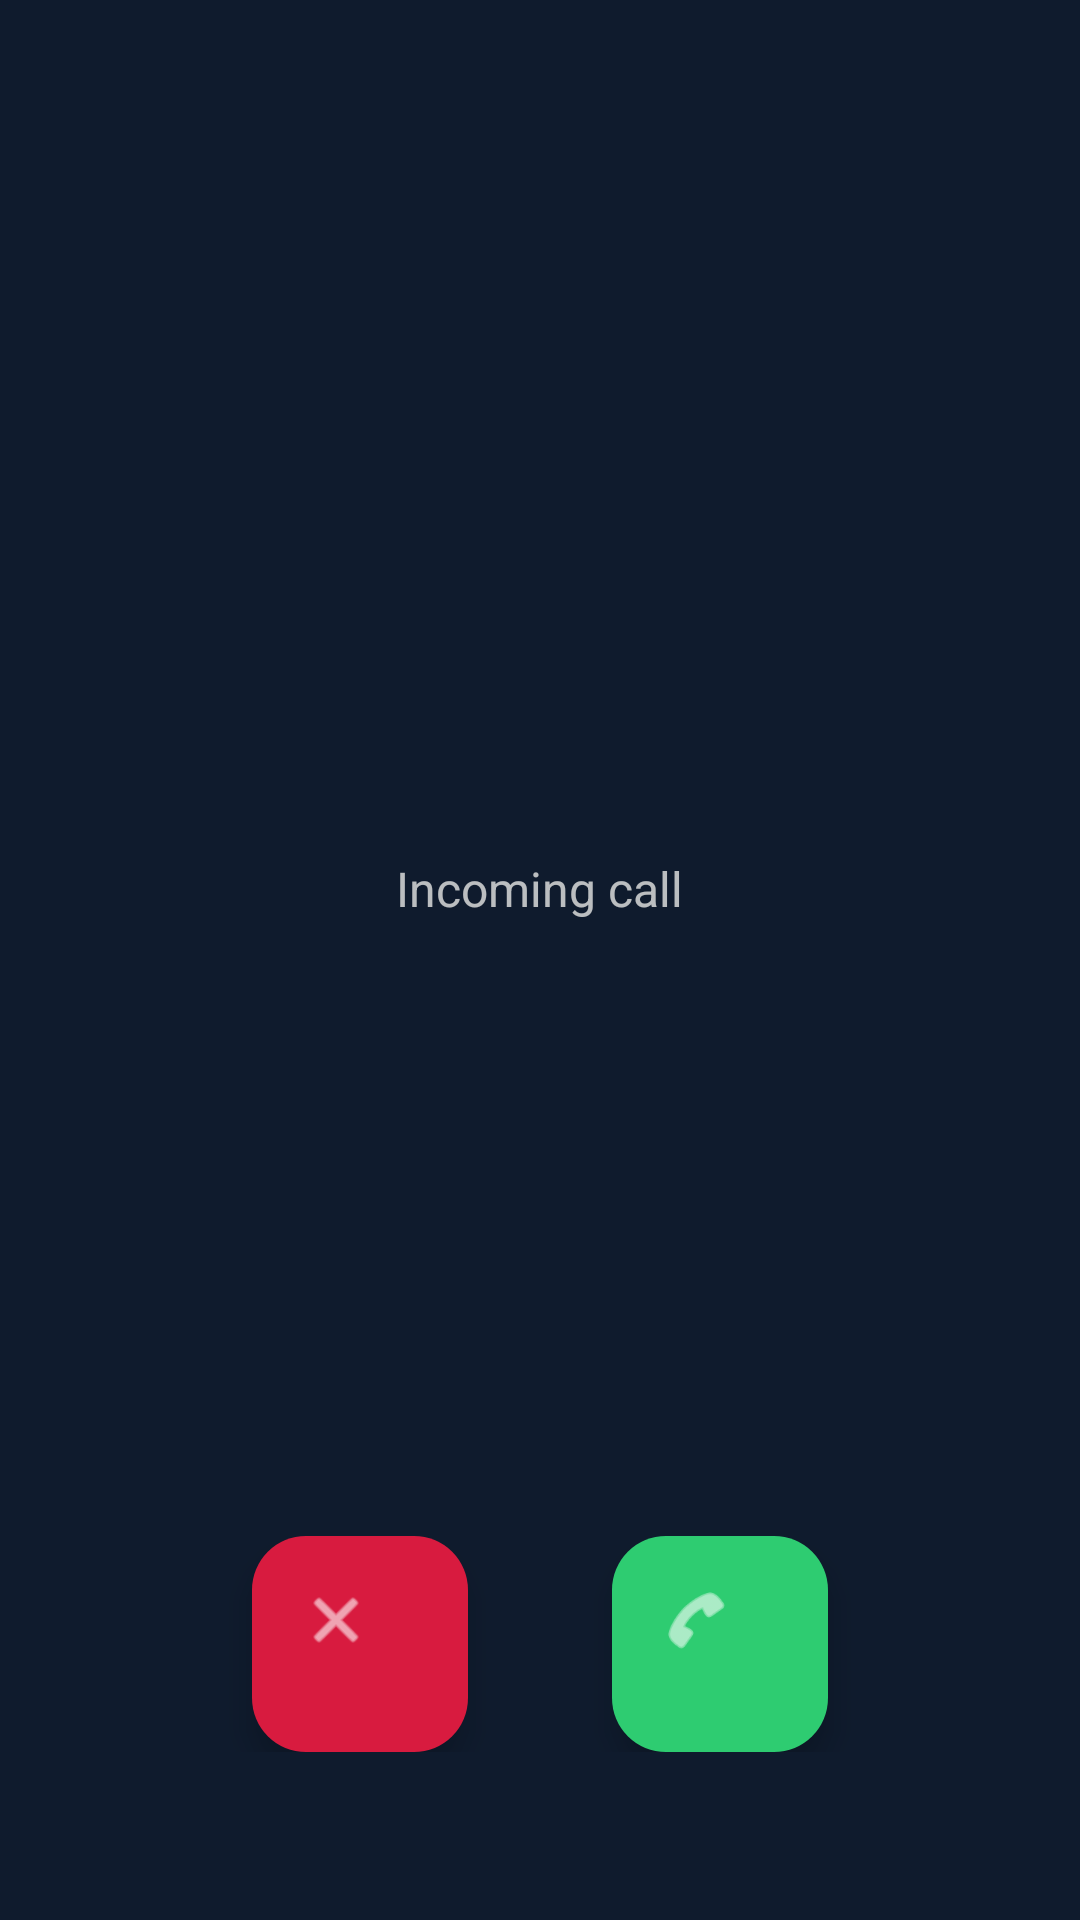

Point at icon controls on the screen. Image size 1080px x 1920px, points as point (x, y).
Accept: point (720, 1644)
Decline: point (360, 1644)
